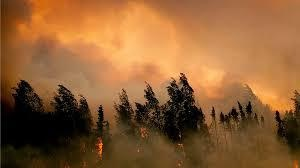fire: (95, 138, 104, 159)
